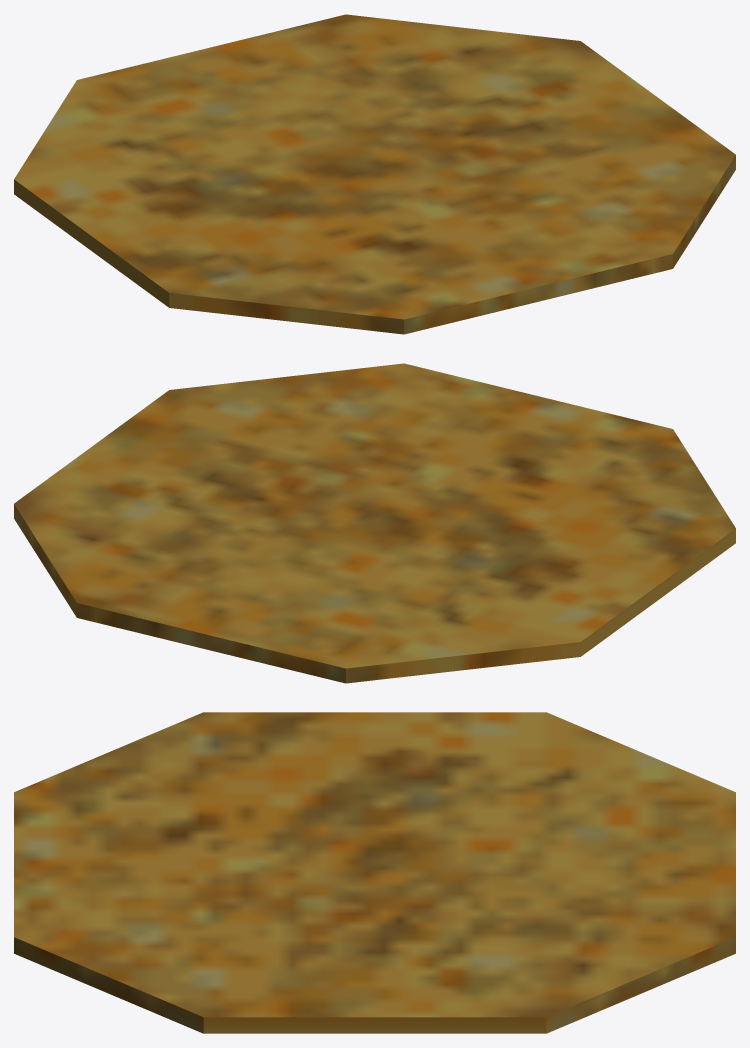
The model's file is bunny_cymbal.fbx.
The picture shows the model from 3 angles, top to bottom: view 1: azimuth 30°, elevation 25°; view 2: azimuth 150°, elevation 25°; view 3: azimuth 270°, elevation 25°; orthographic projection. The views are drawn at different scales.
Parts seen in each view (by area): view 1: cymbal.R.002; view 2: cymbal.R.002; view 3: cymbal.R.002.
Part boxes in pixels (box(x1,y1,x2,y2)): cymbal.R.002: box(14, 14, 735, 334); cymbal.R.002: box(14, 363, 735, 683); cymbal.R.002: box(14, 712, 735, 1033).
Bounding box in the file's own units: 1.74 × 0.0439 × 1.74.
Materials: 1 (1 with a texture image).
